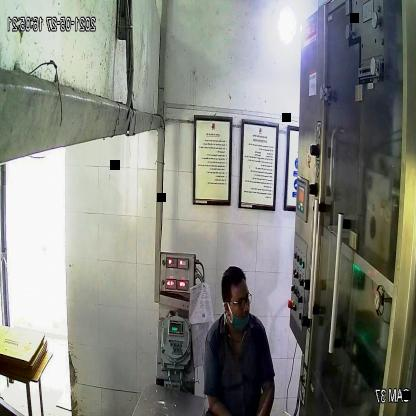goggles: (224, 288, 254, 314)
